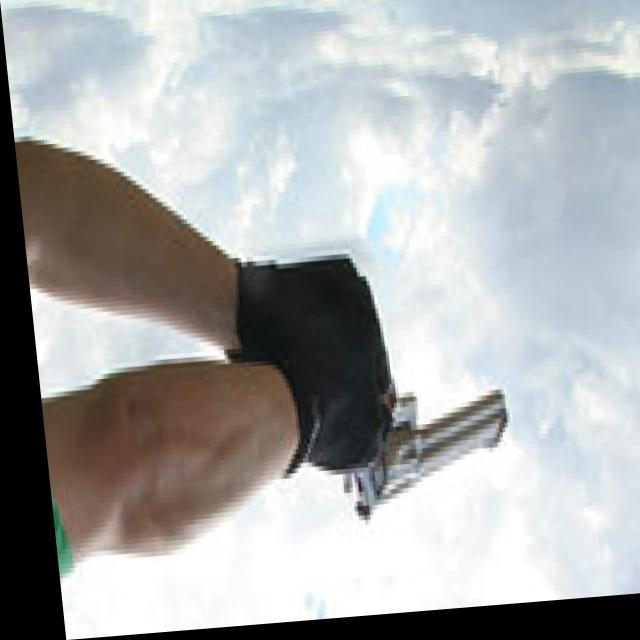handgun: (313, 383, 508, 537)
